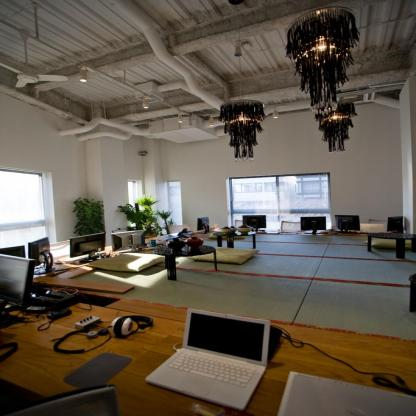board: (144, 310, 278, 410), (276, 371, 416, 416)
